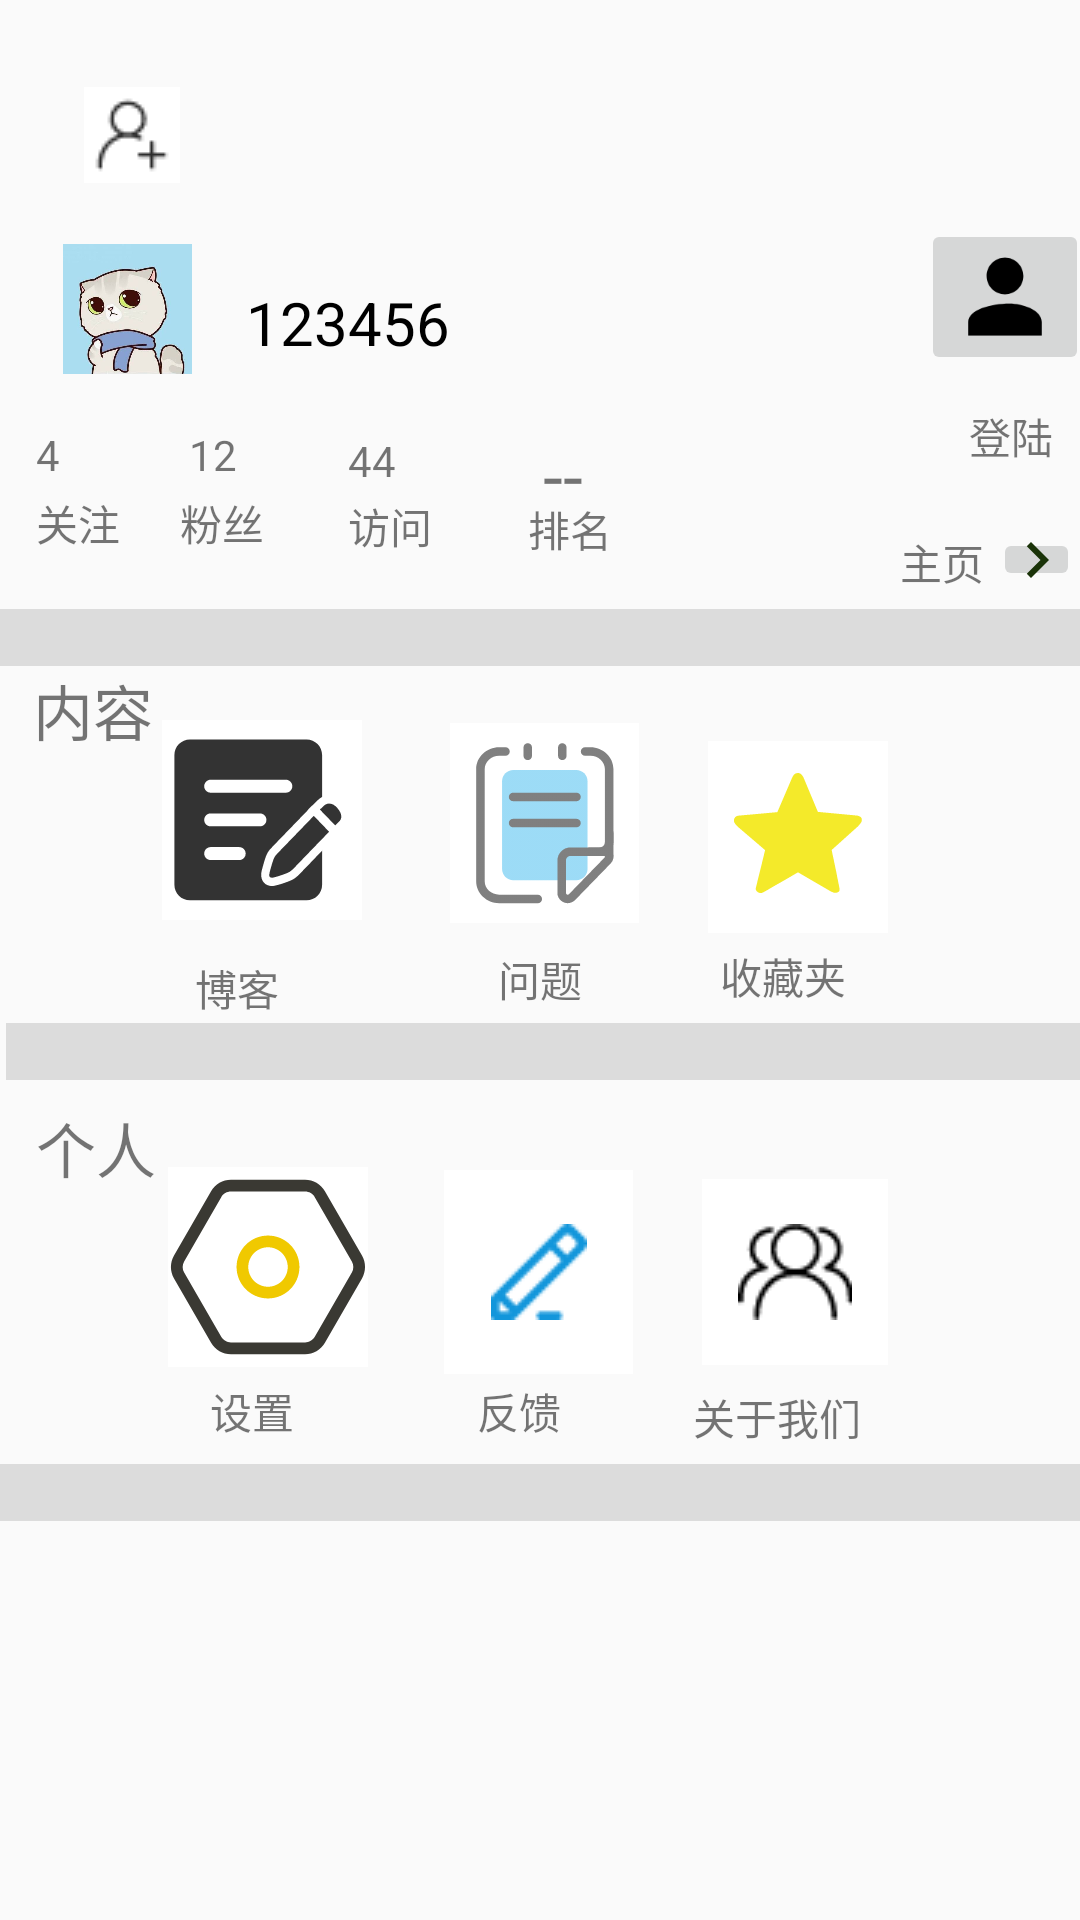

Where to tap for icons on this 1080 x 1920 app screen, as point (x, y):
aboutus: point (795, 1272)
addfriend: point (132, 135)
boke: point (258, 820)
chevron right: point (1036, 560)
fankui: point (539, 1272)
login: point (1005, 297)
shoucangjia: point (798, 833)
tiezi: point (545, 823)
touxiang: point (127, 309)
